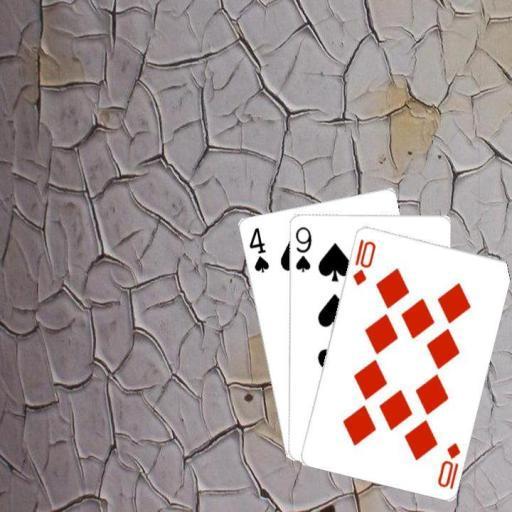10D: (434, 439, 462, 491), (349, 236, 377, 287)
4S: (246, 224, 271, 274)
9S: (291, 223, 313, 273)
